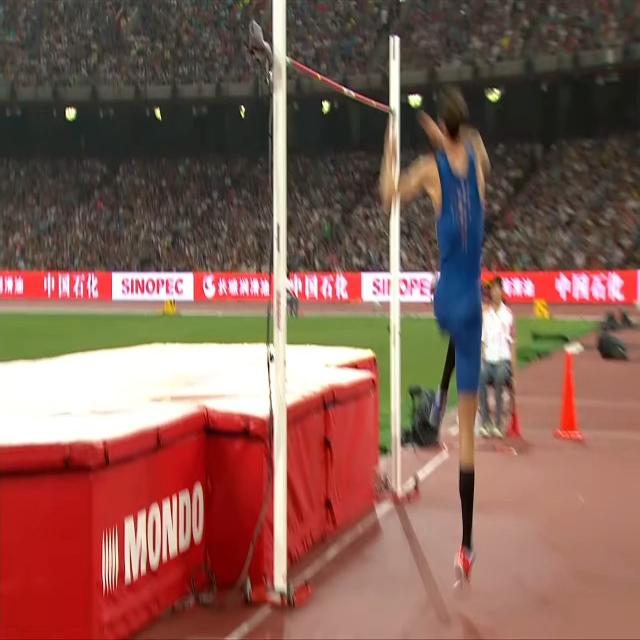jump: (381, 90, 491, 593)
